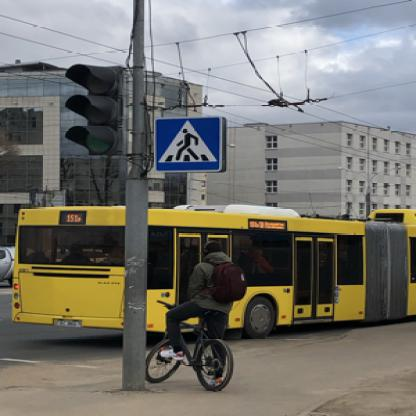crosswalk: (151, 113, 225, 172)
trafficlight: (61, 60, 123, 155)
